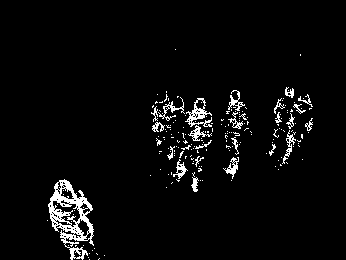person: (46, 178, 103, 260), (220, 87, 250, 177), (187, 97, 212, 193), (284, 93, 313, 167), (269, 84, 294, 151), (170, 95, 187, 183), (151, 91, 168, 153)
